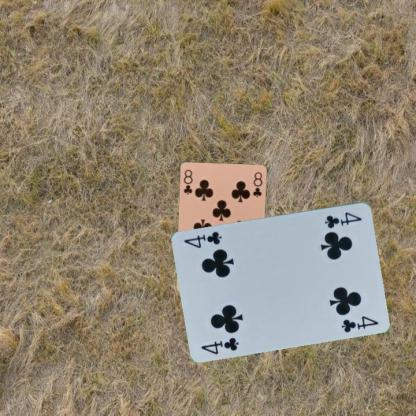4c: (322, 209, 363, 230), (199, 335, 240, 356)
8c: (182, 167, 194, 196)
